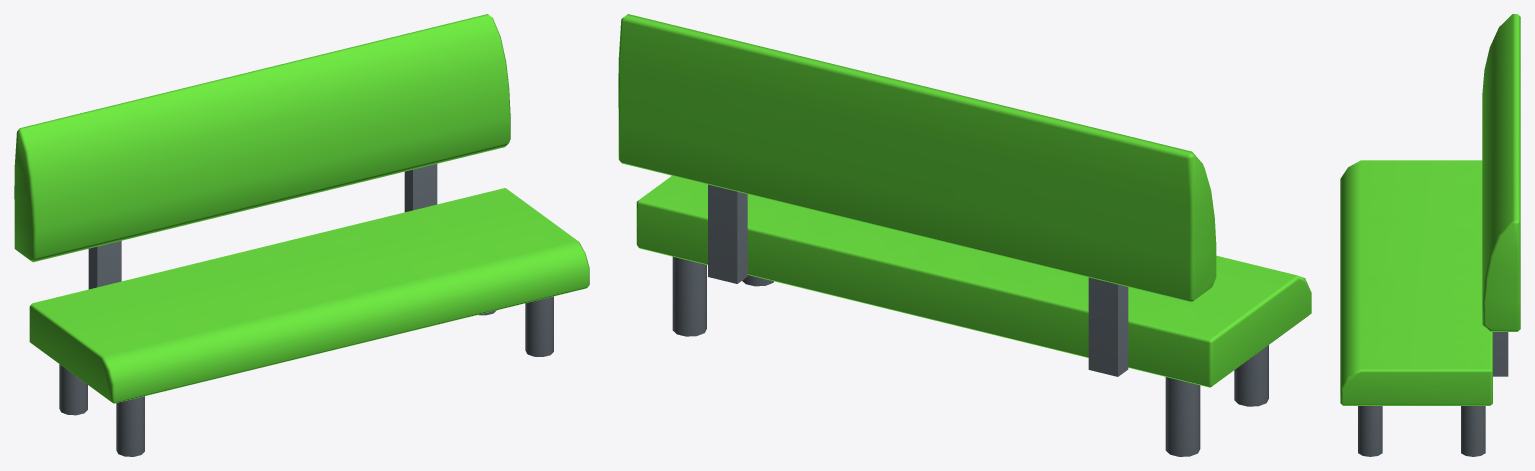
Rendered from Bench.fbx.
3 renders of one model, left to right at view 1: azimuth 30°, elevation 25°; view 2: azimuth 150°, elevation 25°; view 3: azimuth 270°, elevation 25°, orthographic. The views are drawn at different scales.
Parts seen in each view (by area): view 1: Bench; view 2: Bench; view 3: Bench.
Part boxes in pixels (x1,y1,x2,y2): Bench: (14,14,589,456); Bench: (618,14,1311,456); Bench: (1340,14,1520,456).
Bounding box in the file's own units: 235 × 127 × 85.
